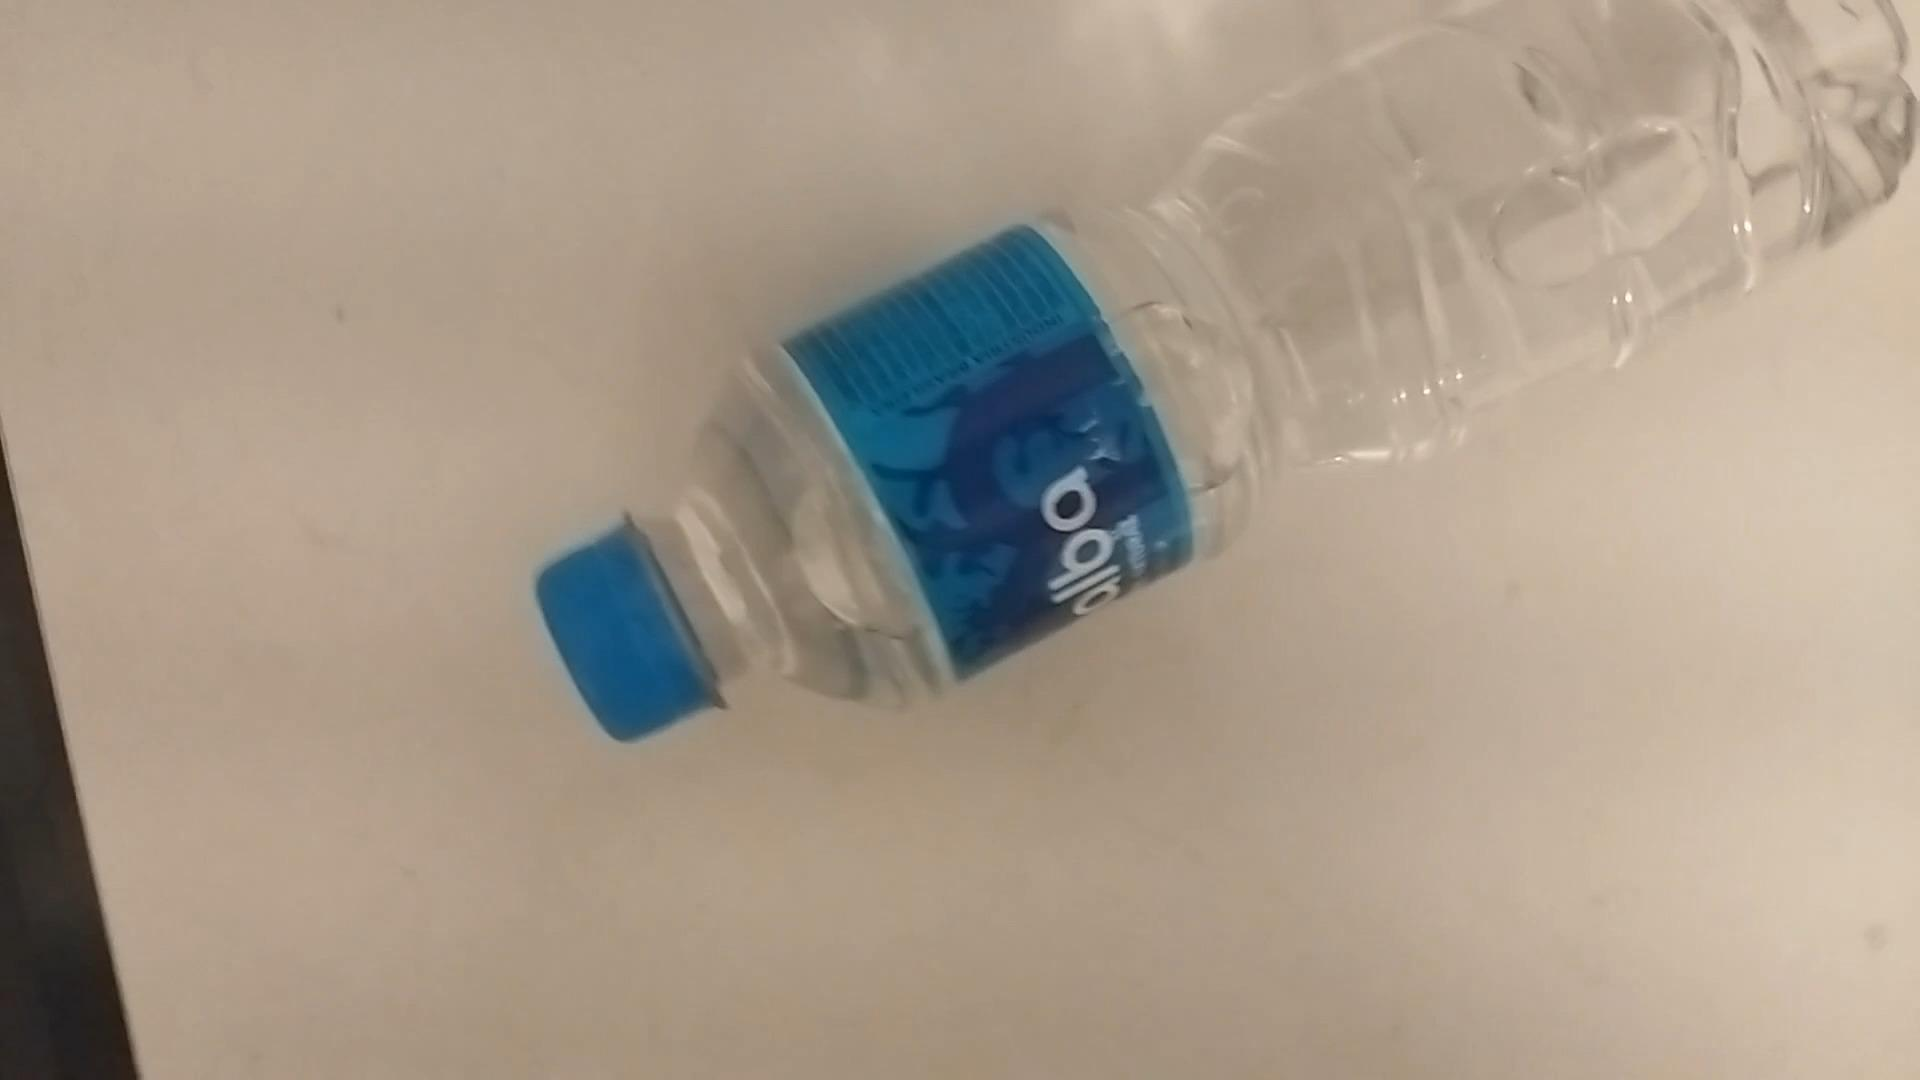agua: (531, 11, 1884, 750)
